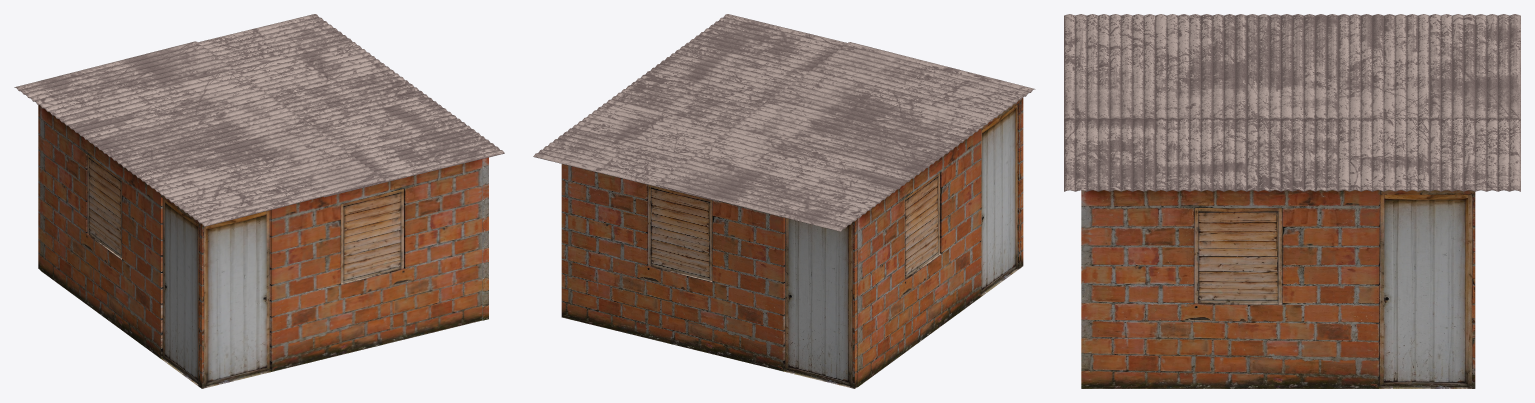
The model's file is casa_derecha_06.fbx.
3 views of the same model, side by side, from view 1: azimuth 30°, elevation 25°; view 2: azimuth 150°, elevation 25°; view 3: azimuth 270°, elevation 25° (orthographic). The views are drawn at different scales.
Visible parts, largest first — view 1: Techo 06.001, casa_derecha_06.003, casa_derecha_06.004, casa_derecha_06.001, casa_derecha_06.002; view 2: Techo 06.001, casa_derecha_06.002, casa_derecha_06.004, casa_derecha_06.001, casa_derecha_06.003; view 3: Techo 06.001, casa_derecha_06.001.
Boxes of the visible parts, <box> form: Techo 06.001: <box>14,14,504,226</box>; casa_derecha_06.003: <box>198,159,482,388</box>; casa_derecha_06.004: <box>40,106,199,387</box>; casa_derecha_06.001: <box>482,157,488,320</box>; casa_derecha_06.002: <box>38,105,40,269</box>; Techo 06.001: <box>533,14,1035,231</box>; casa_derecha_06.002: <box>568,165,857,388</box>; casa_derecha_06.004: <box>857,100,1021,387</box>; casa_derecha_06.001: <box>561,164,568,318</box>; casa_derecha_06.003: <box>1017,97,1023,268</box>; Techo 06.001: <box>1064,14,1520,191</box>; casa_derecha_06.001: <box>1081,190,1475,388</box>.
Size of the model in its own units: 997 by 545 by 1094.
